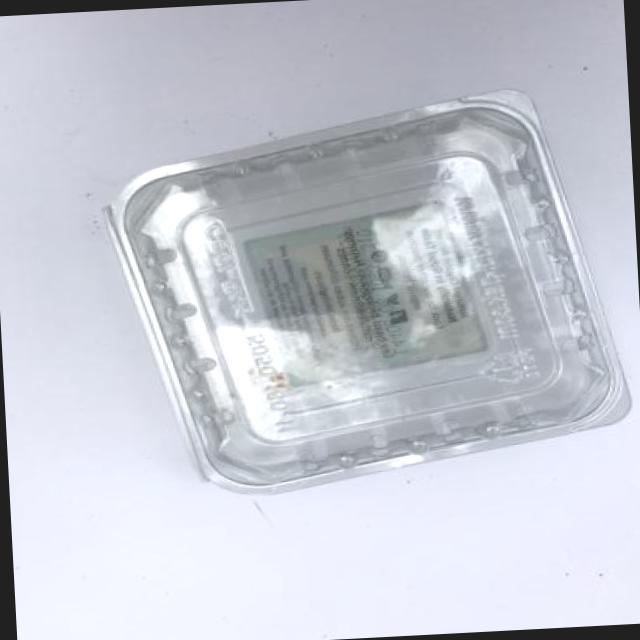plastic: (86, 124, 616, 443)
